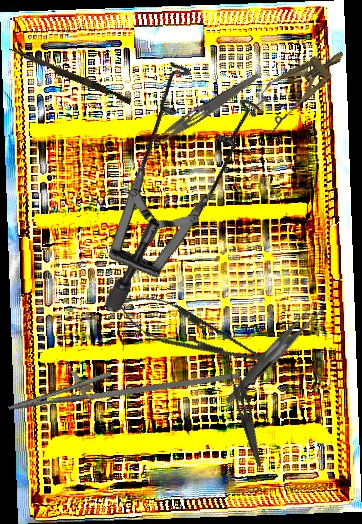Dressing Forceps: (204, 299, 342, 405), (140, 67, 262, 156), (220, 355, 274, 467)
Needle Holder: (3, 328, 241, 439), (106, 282, 287, 386)
Pusher: (6, 46, 133, 105)
Speculum: (14, 34, 311, 316), (242, 35, 356, 139)
